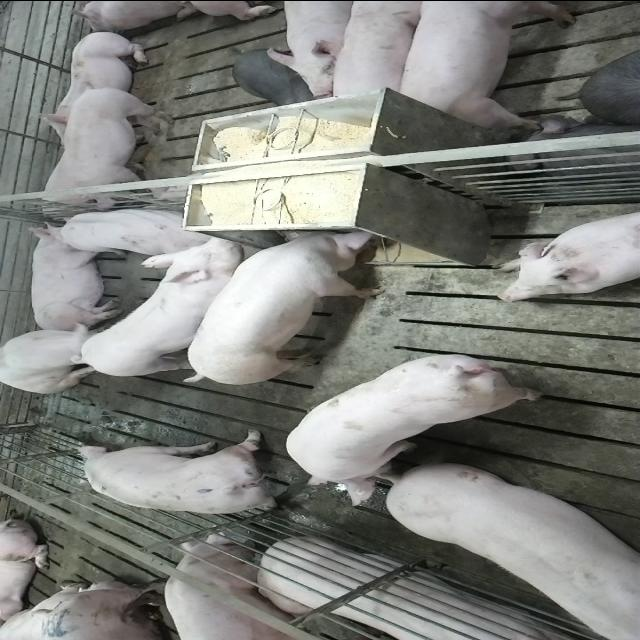Feeding: (180, 220, 398, 382)
Lateral_lying: (252, 539, 611, 640), (24, 224, 126, 332)
Sitting: (1, 318, 126, 392)
Standing: (383, 465, 640, 640), (287, 355, 547, 509), (388, 2, 582, 134), (77, 238, 253, 380), (73, 430, 295, 516), (165, 534, 319, 640), (65, 84, 182, 212), (328, 3, 432, 105), (268, 0, 356, 100)
Sternal_lying: (493, 207, 640, 303), (31, 30, 153, 134)
